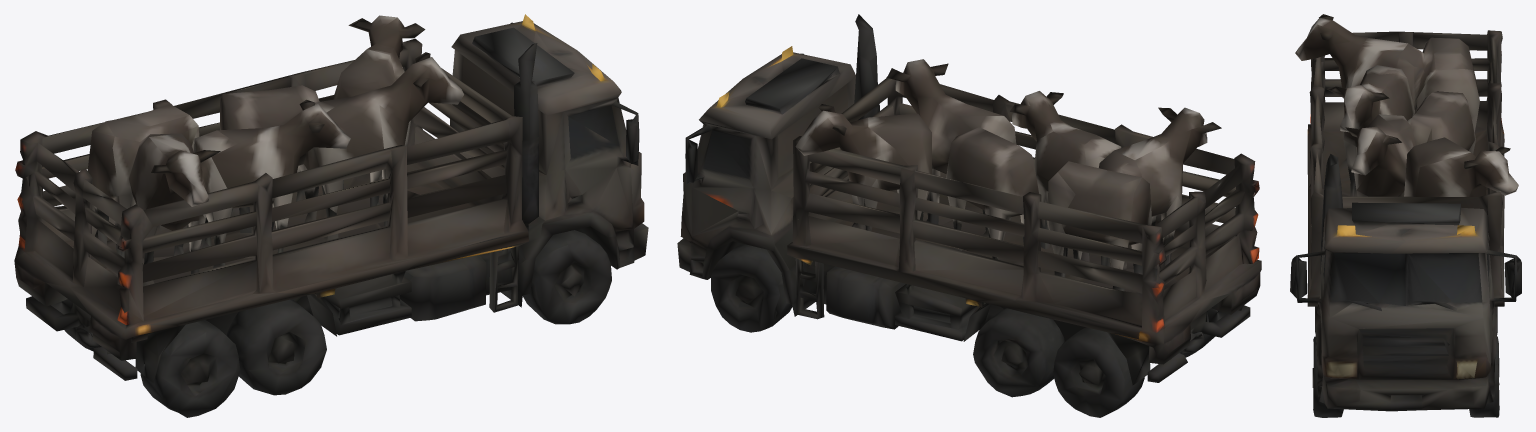
Rendered from ff_truck_cows.glb.
3 renders of one model, left to right at view 1: azimuth 30°, elevation 25°; view 2: azimuth 150°, elevation 25°; view 3: azimuth 270°, elevation 25°, orthographic. The views are drawn at different scales.
Parts seen in each view (by area): view 1: ff_truck_cows; view 2: ff_truck_cows; view 3: ff_truck_cows.
Part boxes in pixels (x1,y1,x2,y2): ff_truck_cows: (14,14,648,417); ff_truck_cows: (677,14,1261,417); ff_truck_cows: (1290,14,1521,417).
Bounding box in the file's own units: 11 × 5.5 × 4.64.
1 material, 1 textured.
